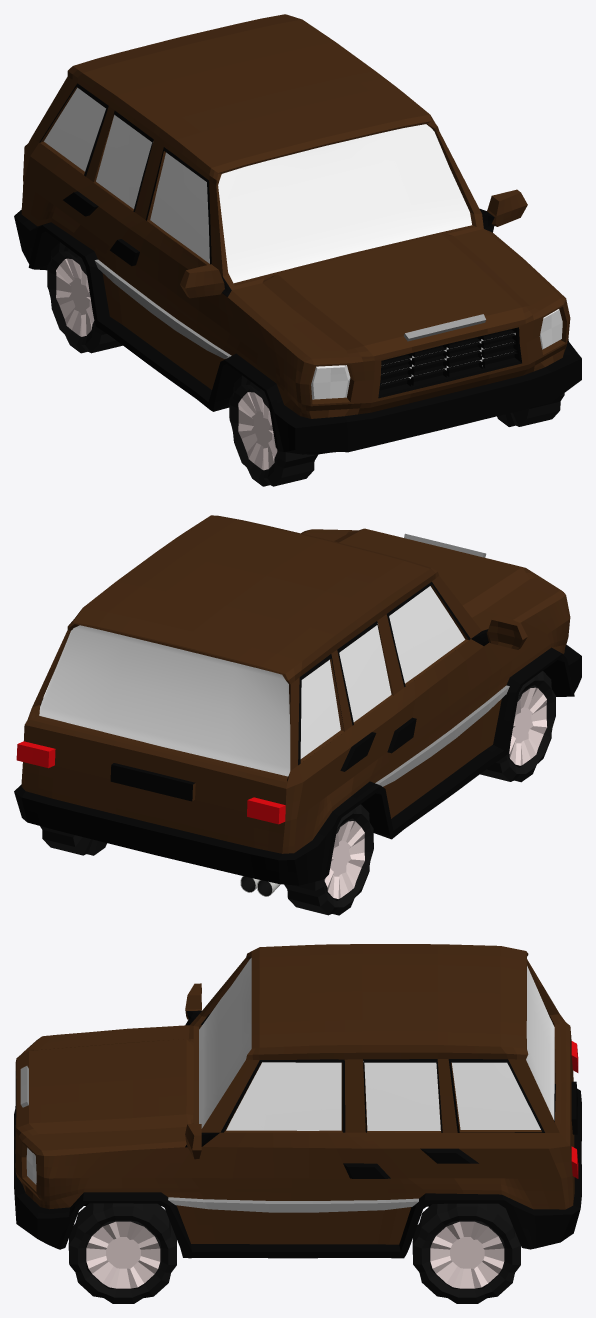
File: gclass.fbx
3 views of the same model, one above another, from view 1: azimuth 30°, elevation 25°; view 2: azimuth 150°, elevation 25°; view 3: azimuth 270°, elevation 25° (orthographic). The views are drawn at different scales.
Parts seen in each view (by area): view 1: Cube.018, Cube.020, Cube.019, Cube.009; view 2: Cube.018, Cube.019, Cube.020, Cube.010; view 3: Cube.018, Cube.009, Cube.010.
Part boxes in pixels (bbox=[...]): Cube.018: bbox=[14, 14, 581, 454]; Cube.020: bbox=[229, 375, 318, 486]; Cube.019: bbox=[47, 242, 122, 353]; Cube.009: bbox=[497, 393, 564, 426]; Cube.018: bbox=[14, 515, 581, 896]; Cube.019: bbox=[284, 804, 373, 915]; Cube.020: bbox=[480, 671, 555, 782]; Cube.010: bbox=[40, 826, 106, 855]; Cube.018: bbox=[14, 944, 581, 1258]; Cube.009: bbox=[68, 1203, 176, 1303]; Cube.010: bbox=[412, 1203, 520, 1303].
Size of the model in its own units: 740 by 540 by 1129.
